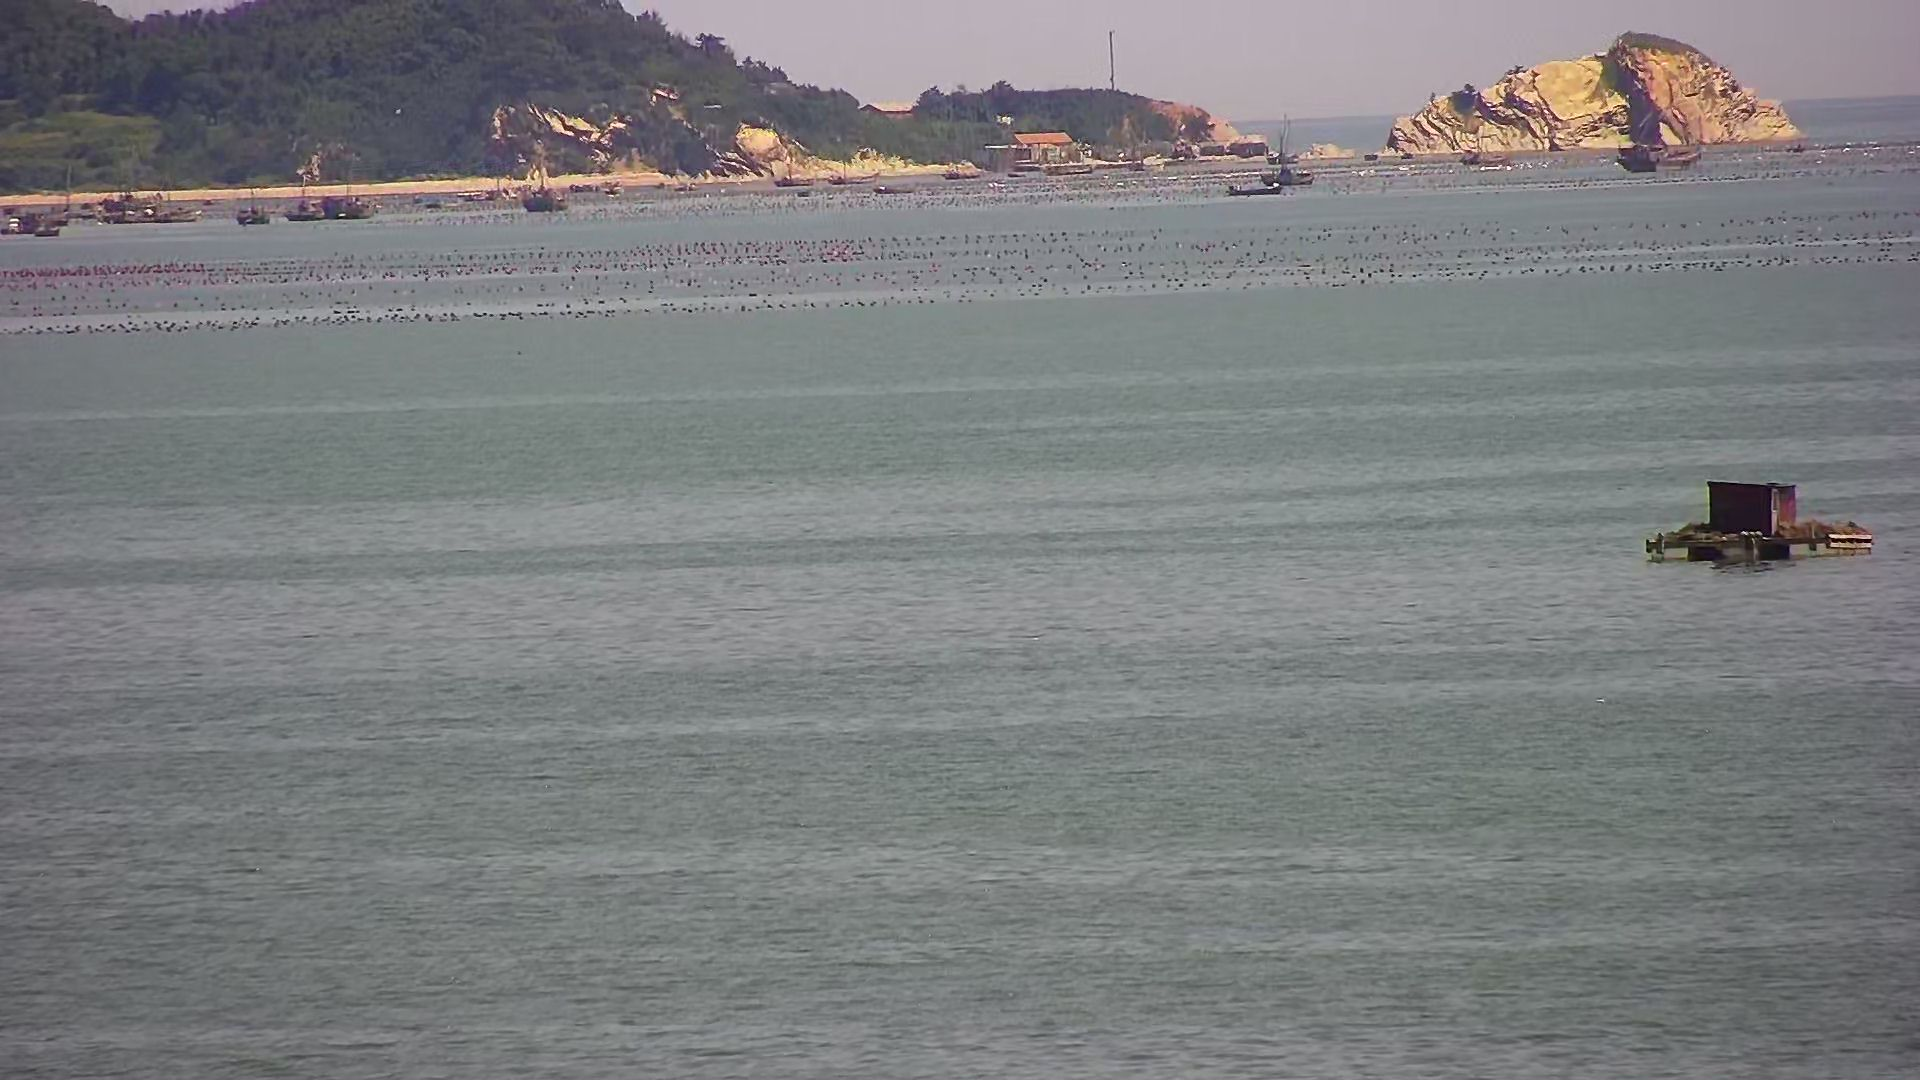boat: (1222, 131, 1317, 196), (285, 178, 375, 224), (521, 160, 574, 218)
platform: (1643, 477, 1880, 568)
rock: (1364, 26, 1804, 164)
